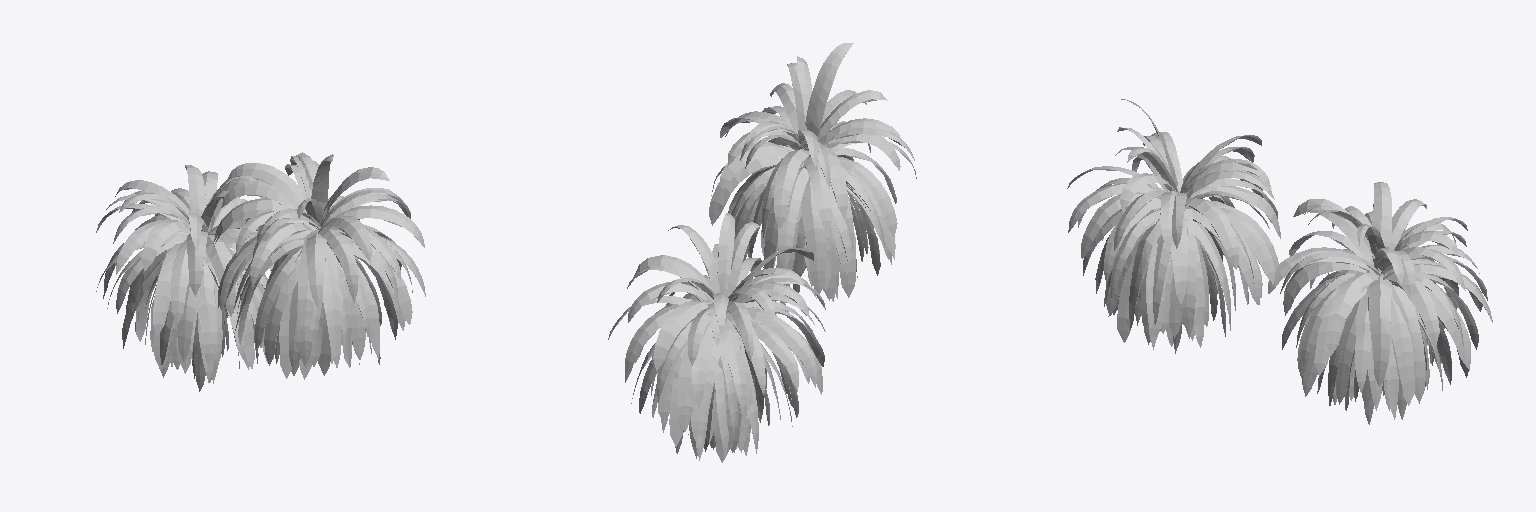
Rendered from palm1_leaves.obj.
3 views of the same model, side by side, from view 1: azimuth 30°, elevation 25°; view 2: azimuth 150°, elevation 25°; view 3: azimuth 270°, elevation 25° (orthographic).
Parts seen in each view (by area): view 1: Leaf_Diffuse.002; view 2: Leaf_Diffuse.002; view 3: Leaf_Diffuse.002.
Boxes of the visible parts, x1,y1,x2,y2 form: Leaf_Diffuse.002: [96, 152, 425, 391]; Leaf_Diffuse.002: [608, 43, 916, 462]; Leaf_Diffuse.002: [1067, 99, 1492, 424].
Bounding box in the file's own units: 5.96 × 8.97 × 11.08.